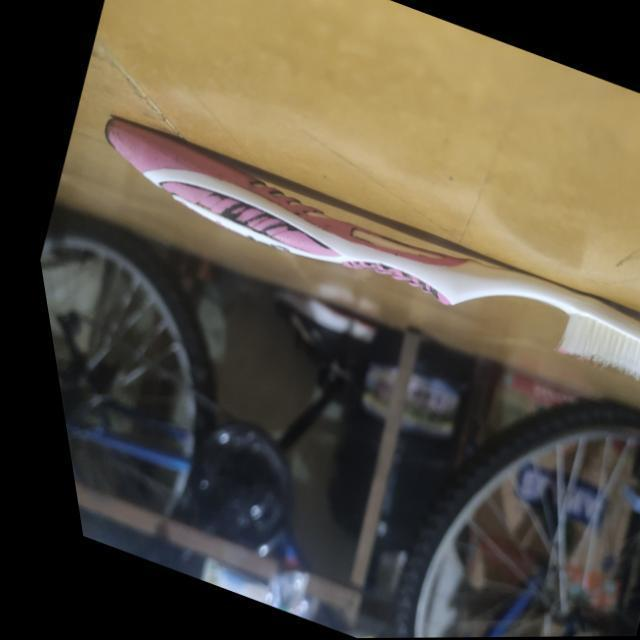toothbrush: (48, 81, 640, 439)
